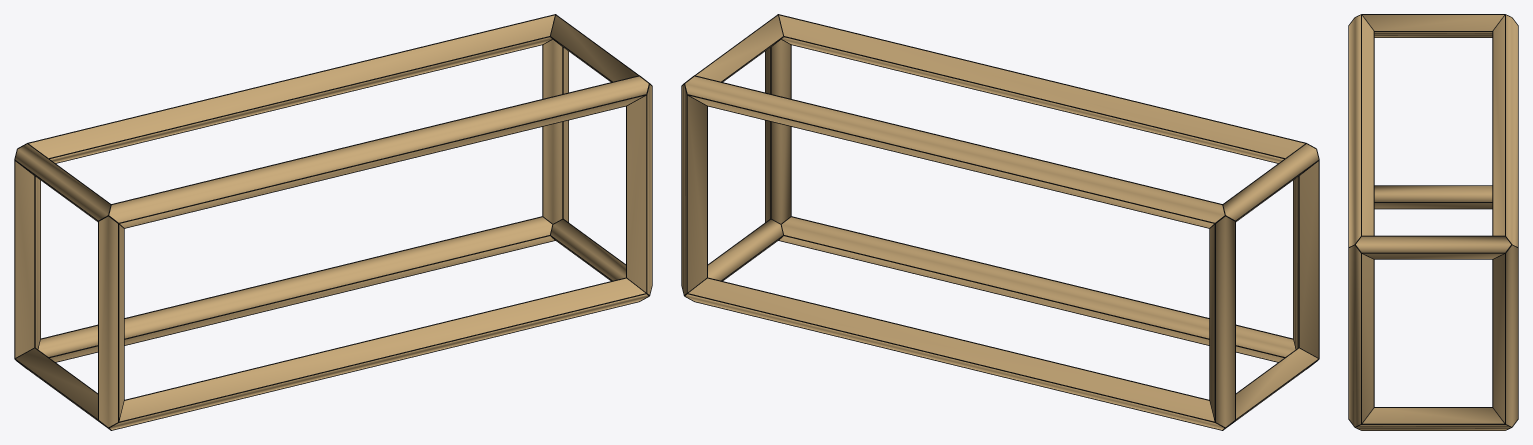
Rendered from 019-banc.glb.
The picture shows the model from 3 angles, left to right: view 1: azimuth 30°, elevation 25°; view 2: azimuth 150°, elevation 25°; view 3: azimuth 270°, elevation 25°; orthographic projection. The views are drawn at different scales.
Parts seen in each view (by area): view 1: arete-X2, arete-X0, arete-X3, arete-X1, arete-Z0, arete-Z1, arete-Z2, arete-Z3, arete-wire-X0, arete-wire-X2, arete-wire-X3, arete-wire-X1 (+8 smaller); view 2: arete-X3, arete-X1, arete-X2, arete-X0, arete-Z2, arete-Z3, arete-Z0, arete-Z1, arete-wire-X1, arete-wire-X3, arete-wire-X2, arete-wire-X0 (+8 smaller); view 3: arete-X2, arete-X3, arete-Z1, arete-Z3, arete-Y3, arete-Y1, arete-Y2, arete-Y0, arete-wire-X2, arete-wire-X3, arete-wire-Y3, arete-wire-Z1 (+4 smaller).
Boxes of the visible parts, x1,y1,x2,y2 form: arete-X2: [109, 76, 648, 227]; arete-X0: [110, 278, 648, 429]; arete-X3: [29, 15, 554, 162]; arete-X1: [38, 217, 554, 361]; arete-Z0: [99, 216, 123, 427]; arete-Z1: [627, 85, 651, 294]; arete-Z2: [15, 161, 40, 357]; arete-Z3: [543, 39, 568, 223]; arete-wire-X0: [108, 277, 649, 430]; arete-wire-X2: [108, 75, 649, 228]; arete-wire-X3: [28, 14, 555, 163]; arete-wire-X1: [38, 216, 555, 362]; arete-X3: [685, 76, 1224, 227]; arete-X1: [685, 278, 1223, 429]; arete-X2: [779, 15, 1304, 162]; arete-X0: [779, 217, 1295, 361]; arete-Z2: [1210, 216, 1234, 427]; arete-Z3: [682, 85, 706, 294]; arete-Z0: [1293, 161, 1318, 357]; arete-Z1: [765, 39, 790, 223]; arete-wire-X1: [684, 277, 1225, 430]; arete-wire-X3: [684, 75, 1222, 228]; arete-wire-X2: [778, 14, 1316, 163]; arete-wire-X0: [778, 216, 1316, 368]; arete-X2: [1349, 15, 1373, 246]; arete-X3: [1493, 15, 1517, 246]; arete-Z1: [1349, 245, 1373, 426]; arete-Z3: [1493, 245, 1517, 426]; arete-Y3: [1356, 236, 1510, 258]; arete-Y1: [1356, 408, 1510, 430]; arete-Y2: [1363, 15, 1503, 37]; arete-Y0: [1374, 186, 1492, 208]; arete-wire-X2: [1348, 14, 1374, 247]; arete-wire-X3: [1492, 14, 1518, 247]; arete-wire-Y3: [1361, 235, 1511, 259]; arete-wire-Z1: [1348, 244, 1374, 424].
Bounding box in the file's own units: 1.23 × 0.4809 × 0.3809.
